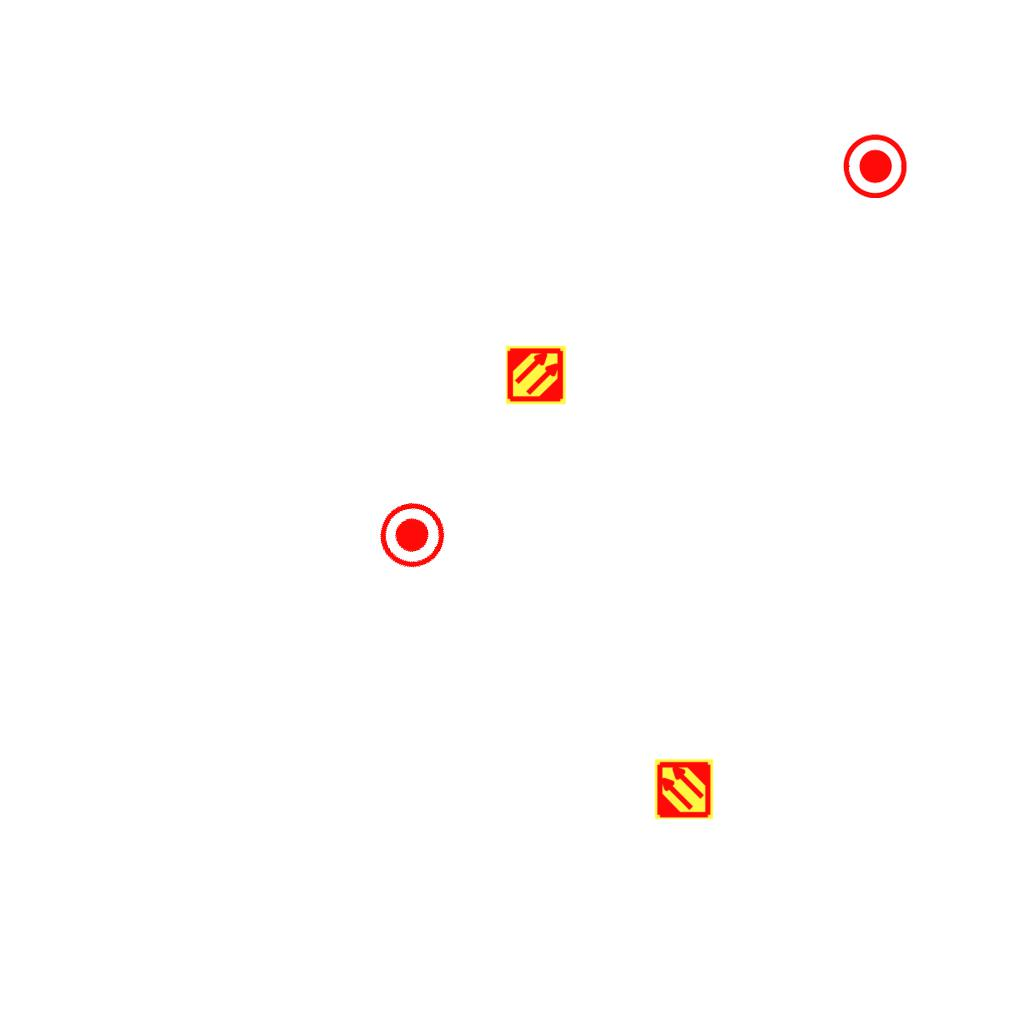ASR_Ansaugrauchmelder: (653, 758, 715, 820), (505, 344, 567, 406)
Taster: (366, 491, 456, 581), (843, 132, 909, 198)
